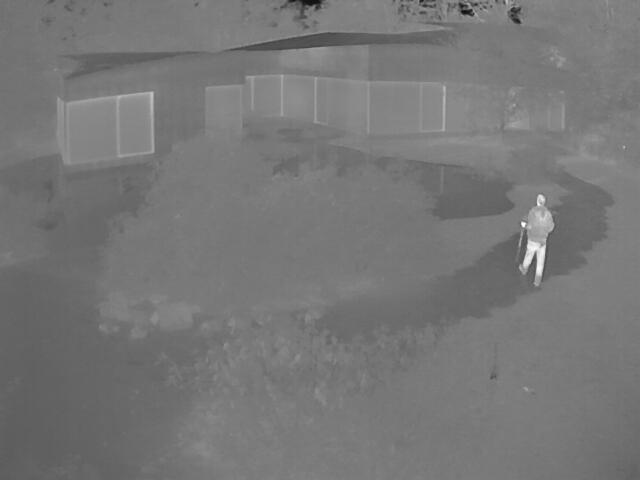person: (515, 194, 553, 287)
